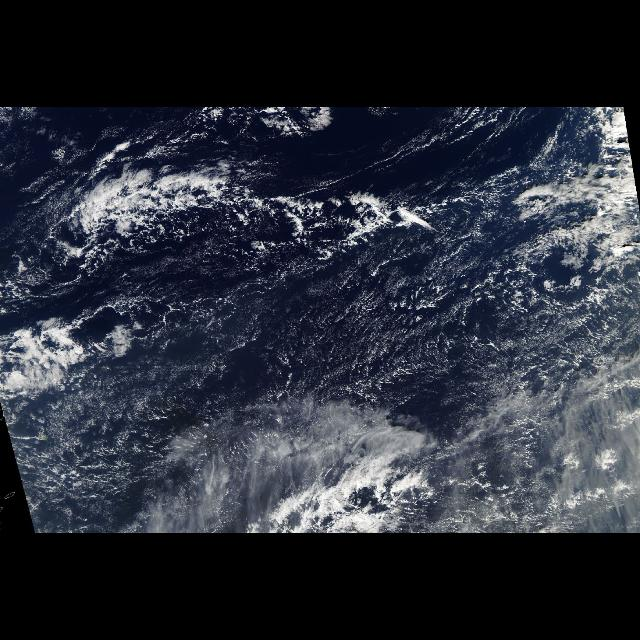Sugar: (176, 286, 398, 402), (26, 416, 158, 492)
